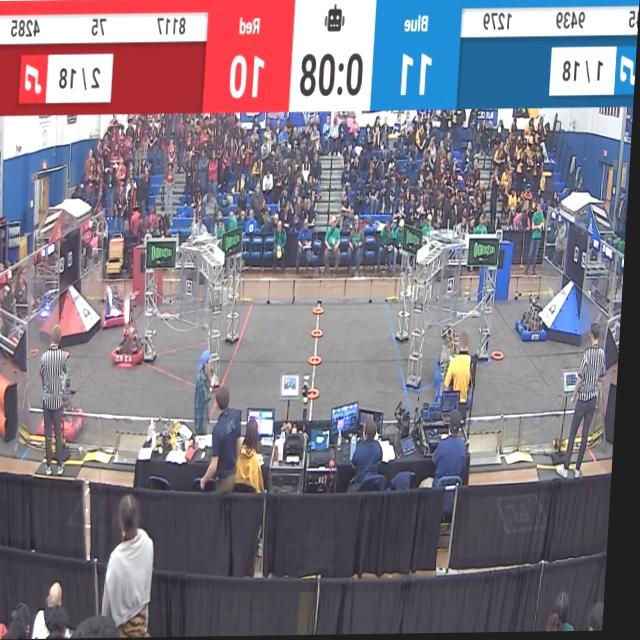Robot: (42, 346, 100, 445), (113, 290, 162, 373), (98, 275, 142, 332), (514, 294, 553, 351), (435, 318, 455, 387)
